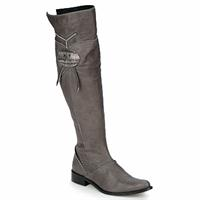shoe: (46, 4, 154, 196)
